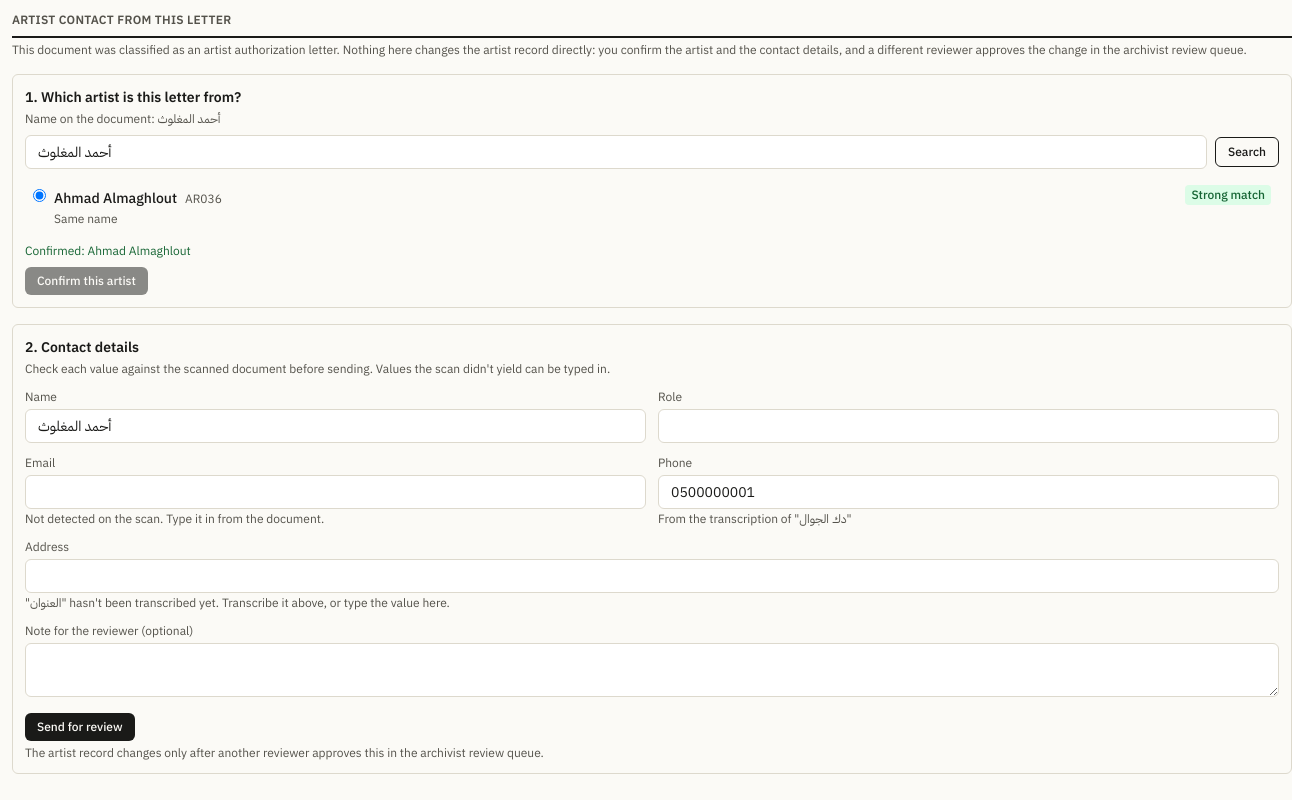
Test case: OcrArtistContactPanel › shows validation errors next to the field they belong to
Step 1. Type "not an email" into the field with test id "artist-contact-email" → {"x": 336, "y": 492}, box top-left (25, 475), bottom-right (646, 509)
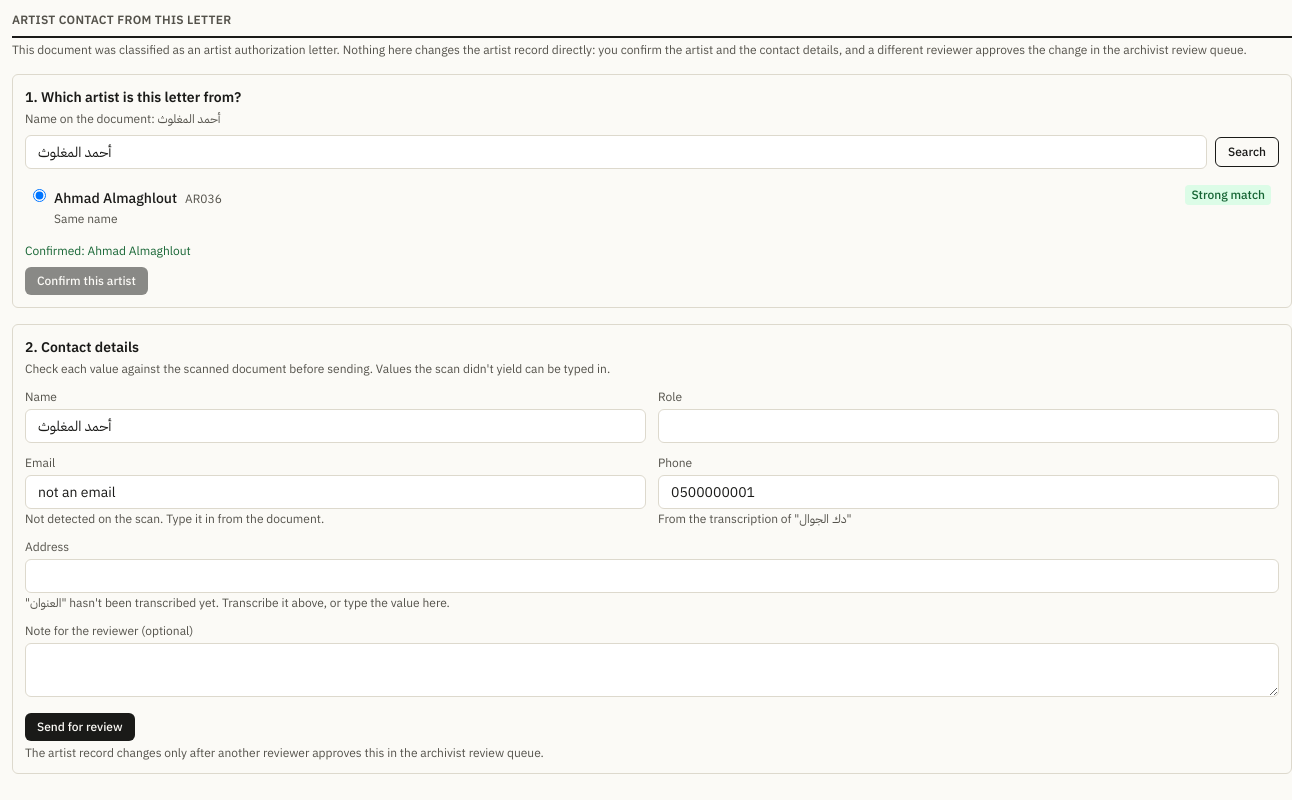
Step 2. Click the button with test id "artist-contact-propose" → {"x": 80, "y": 727}, box top-left (25, 713), bottom-right (135, 741)
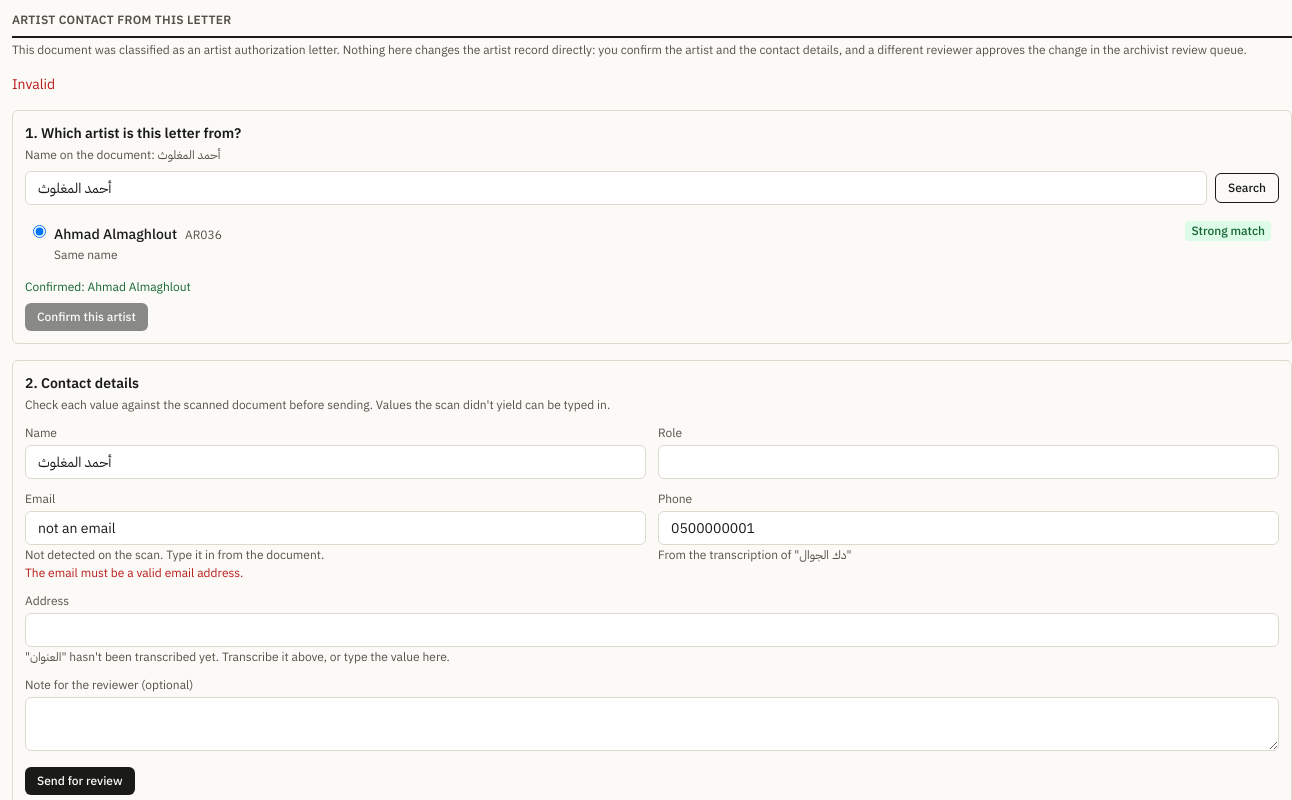
Expected: the text "The email must be a valid email address." is shown, top-left (25, 565), bottom-right (243, 580)
